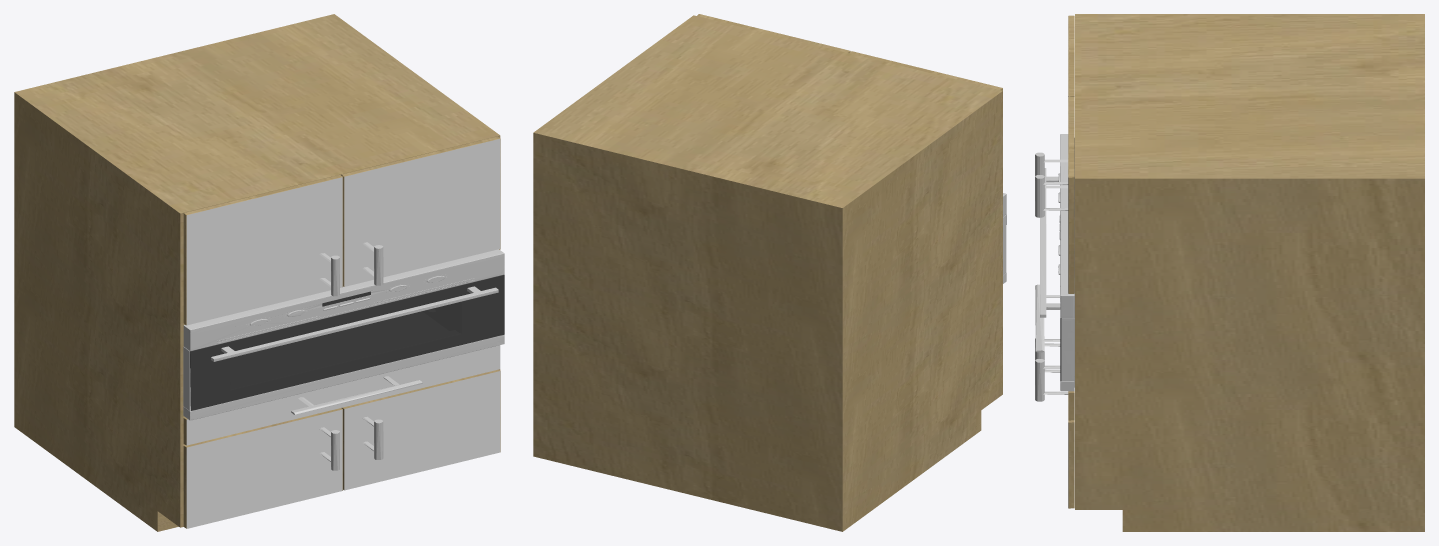
Rendered from sh-bs0-high-cabinet.glb.
3 renders of one model, left to right at view 1: azimuth 30°, elevation 25°; view 2: azimuth 150°, elevation 25°; view 3: azimuth 270°, elevation 25°, orthographic. The views are drawn at different scales.
Visible parts, largest first — view 1: Cube.011_Cube.018, electric_oven_embedable.002_Cube.006; view 2: Cube.011_Cube.018; view 3: Cube.011_Cube.018, electric_oven_embedable.002_Cube.006.
Boxes of the visible parts, x1=… form: Cube.011_Cube.018: x1=14, y1=14, x2=500, y2=531; electric_oven_embedable.002_Cube.006: x1=183, y1=249, x2=504, y2=420; Cube.011_Cube.018: x1=533, y1=14, x2=1002, y2=531; Cube.011_Cube.018: x1=1035, y1=14, x2=1424, y2=531; electric_oven_embedable.002_Cube.006: x1=1040, y1=134, x2=1074, y2=391.
Size of the model in its own units: 1 by 1 by 1.
7 materials, 1 textured.
